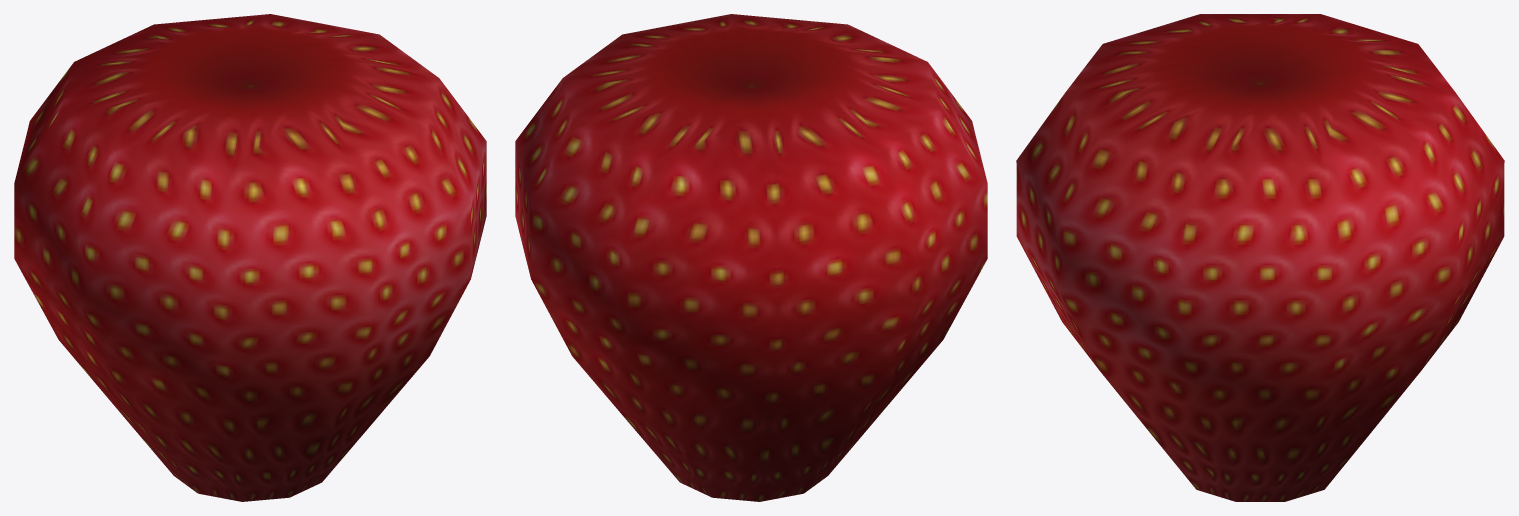
The model's file is Strawberry_Whole.fbx.
3 renders of one model, left to right at view 1: azimuth 30°, elevation 25°; view 2: azimuth 150°, elevation 25°; view 3: azimuth 270°, elevation 25°, orthographic.
Visible parts, largest first — view 1: Strawberry_Whole; view 2: Strawberry_Whole; view 3: Strawberry_Whole.
Part boxes in pixels (x1,y1,x2,y2): Strawberry_Whole: (14,14,486,501); Strawberry_Whole: (515,14,987,501); Strawberry_Whole: (1016,14,1504,501).
Size of the model in its own units: 17.16 by 17.56 by 18.04.
